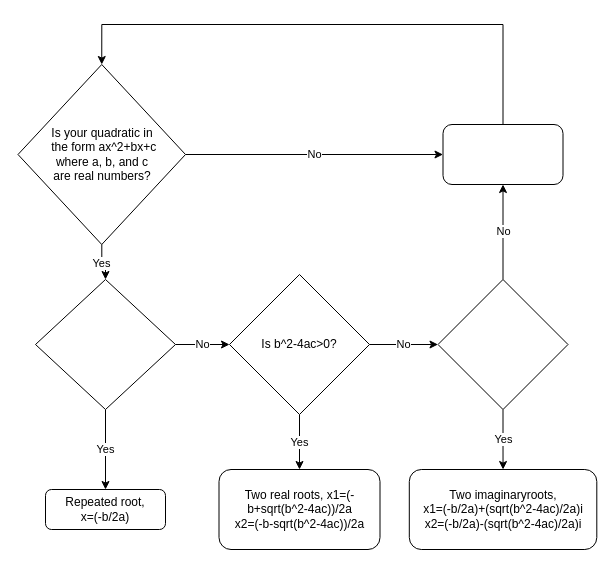
Some shapes in this 614 by 567 pixel diagram are drawn without their labels. Here are the shapes that lost their labels. From the top down, the centre of each, then its label:
point (502, 154): Turn your quadratic into the form ax^2+bx+c
point (105, 344): Does b^2-4ac=0?
point (502, 344): Is b^2-4ac<0?
